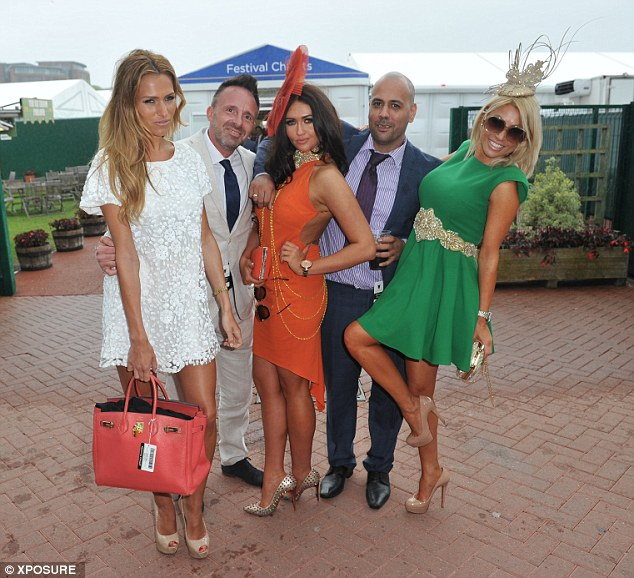Person: (79, 47, 213, 557), (411, 25, 542, 513), (256, 43, 348, 516), (348, 72, 422, 187), (194, 72, 260, 168)
